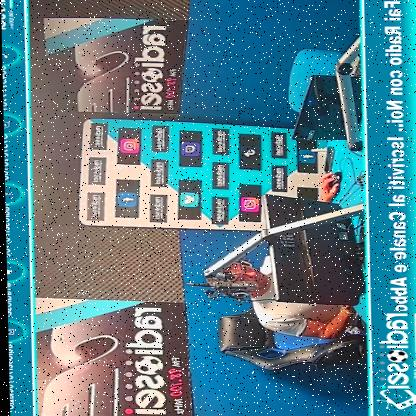streamer: (202, 172, 364, 340)
